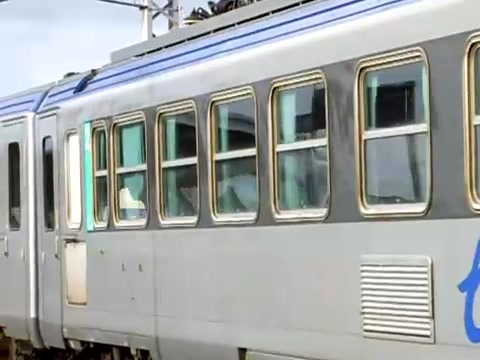train: (1, 1, 480, 360)
